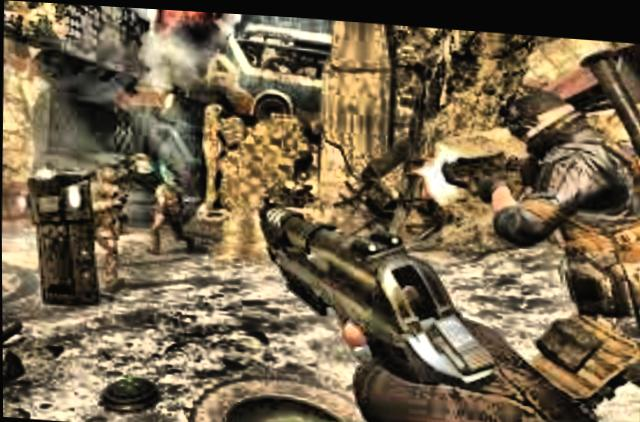pistol: (237, 184, 496, 388)
